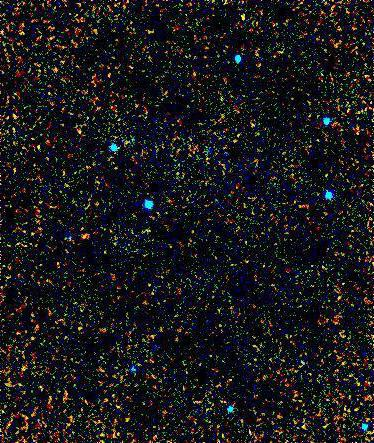star: (70, 220, 100, 250)
